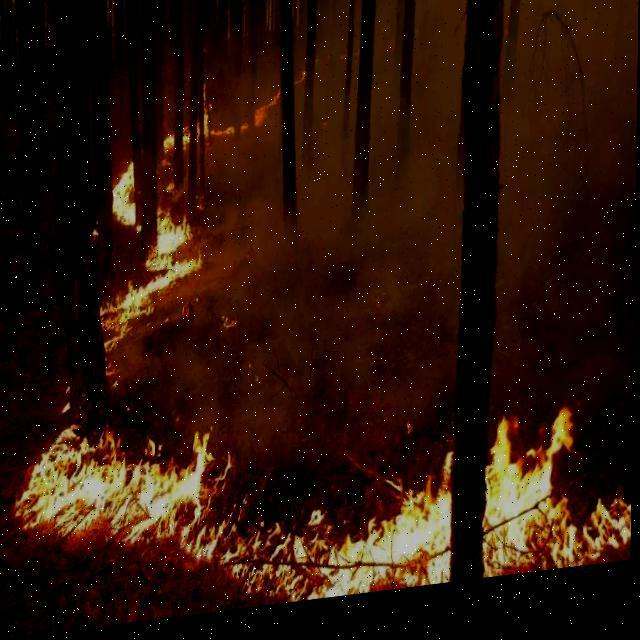Fire: (18, 353, 634, 635), (94, 78, 318, 358)
